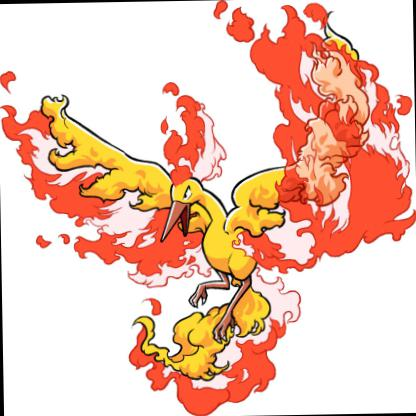Moltres: (12, 3, 416, 416)
